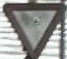Give way: (1, 1, 58, 55)
